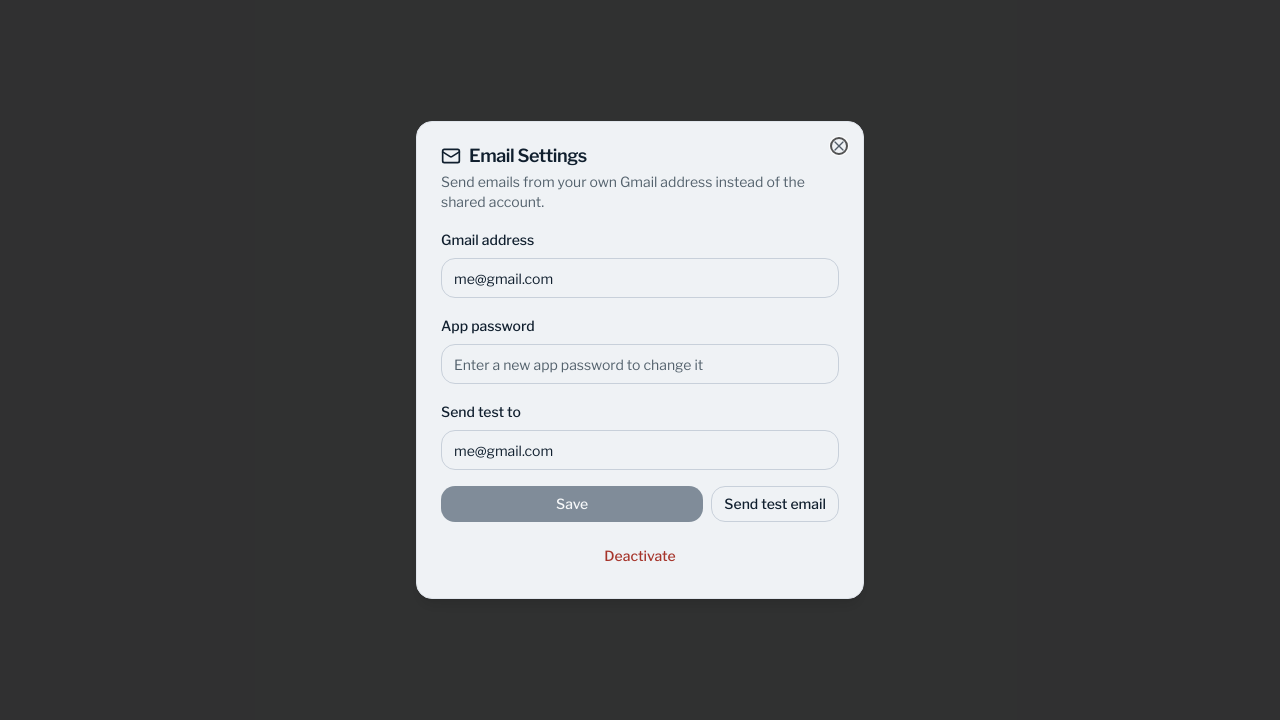
Test: EmailSettingsDialog › shows the exact error message inline when the test send fails
What coordinates should you click on to do the following:
click the button "Send test email"
I would click on:
 (775, 504)
Its box is top-left (711, 486), bottom-right (839, 522).
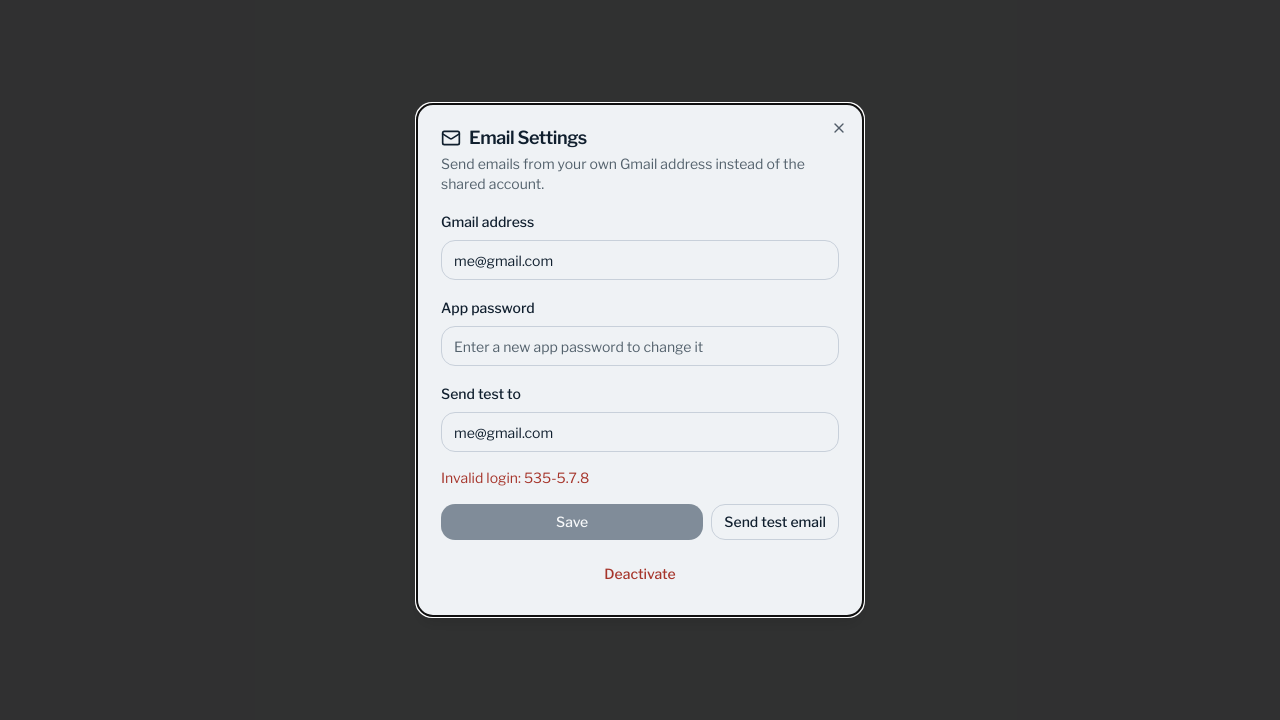
Check: the text "Invalid login: 535-5.7.8" is shown, box top-left (441, 469), bottom-right (589, 486)
